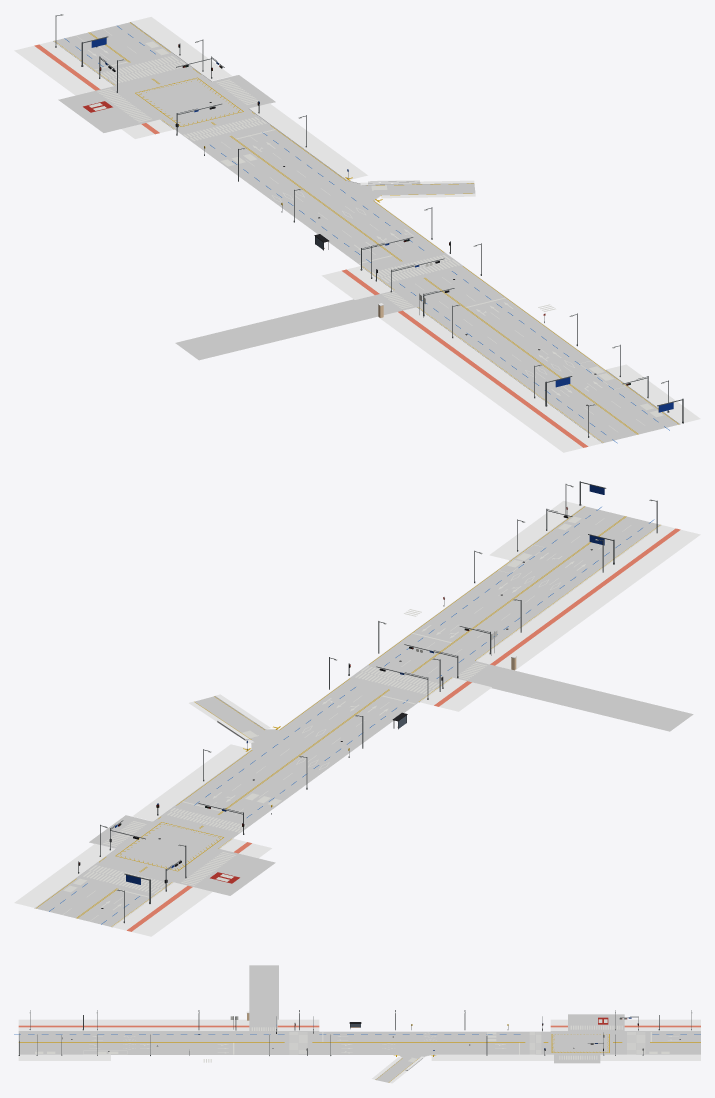
Rendered from road_env.glb.
3 renders of one model, top to bottom at view 1: azimuth 30°, elevation 25°; view 2: azimuth 150°, elevation 25°; view 3: azimuth 270°, elevation 25°, orthographic. The views are drawn at different scales.
Parts seen in each view (by area): view 1: Road; view 2: Road; view 3: Road.
Part boxes in pixels (<box>): Road: <box>14,14,700,452</box>; Road: <box>14,481,700,936</box>; Road: <box>14,965,700,1083</box>.
Bounding box in the file's own units: 121 × 9.6 × 297.
